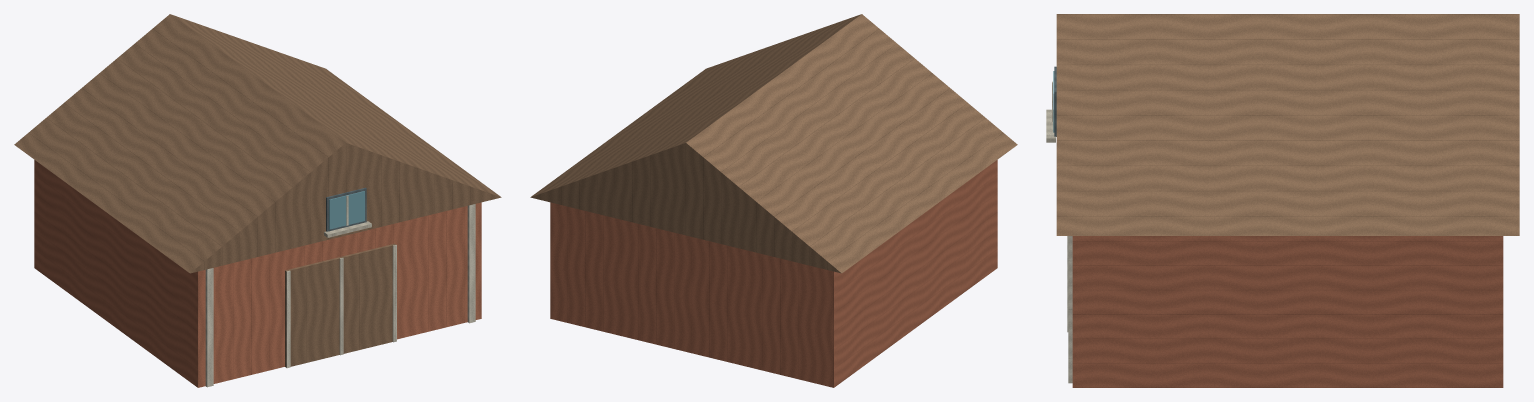
File: gable-barn.glb
The picture shows the model from 3 angles, left to right: view 1: azimuth 30°, elevation 25°; view 2: azimuth 150°, elevation 25°; view 3: azimuth 270°, elevation 25°; orthographic projection. The views are drawn at different scales.
Bounding box in the file's own units: 8.8 × 5.8 × 8.79.
6 materials, 5 textured.
